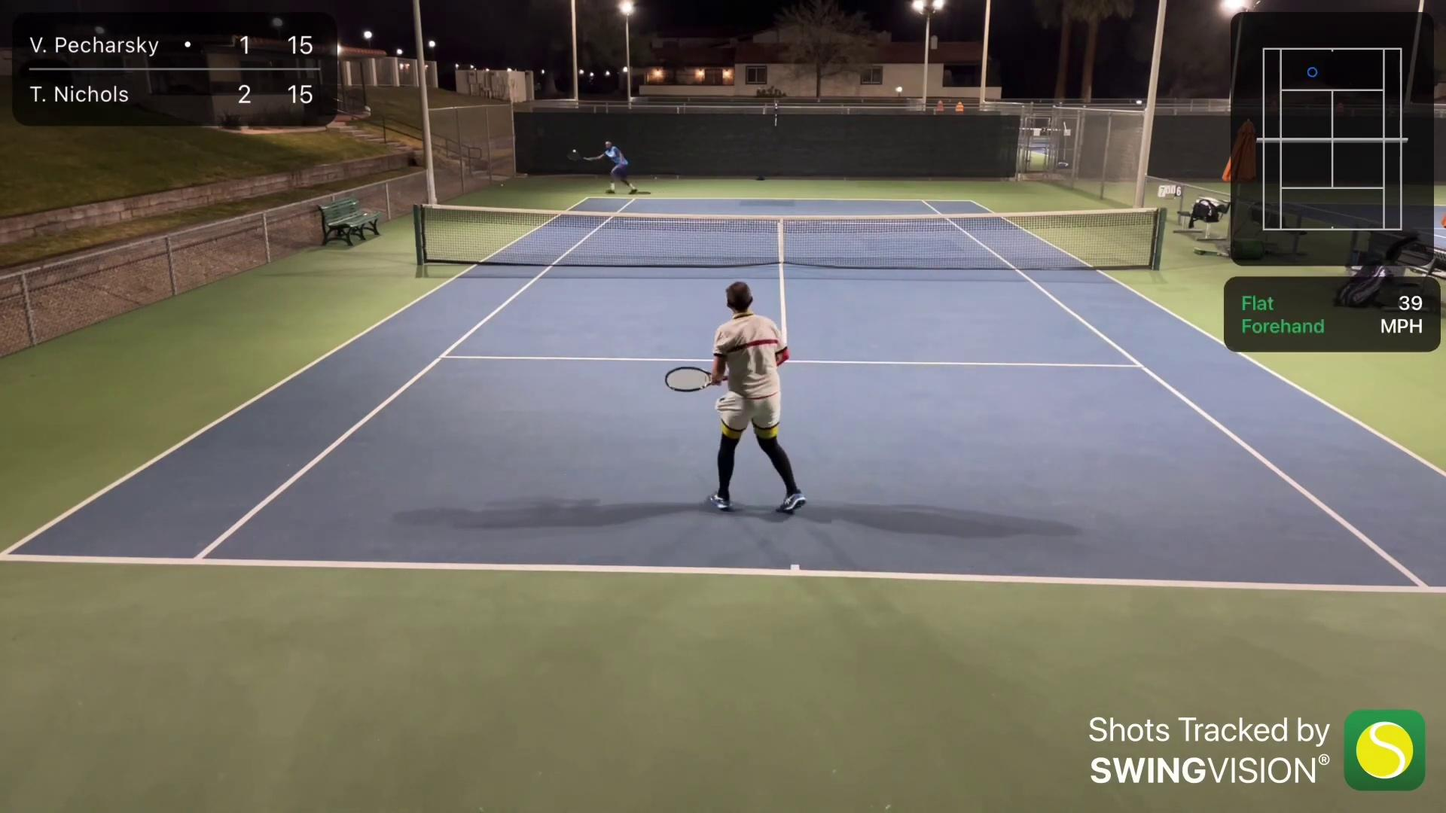ball: (571, 147, 578, 154), (499, 180, 506, 187)
